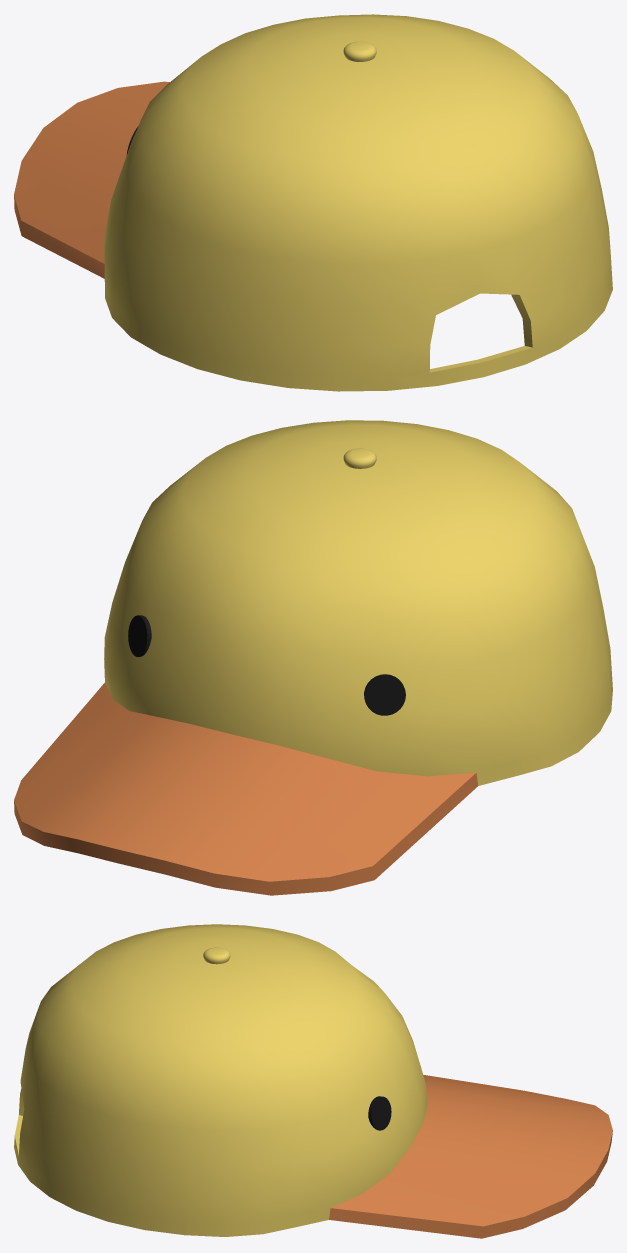
Rendered from Duck hat.fbx.
The picture shows the model from 3 angles, top to bottom: view 1: azimuth 30°, elevation 25°; view 2: azimuth 150°, elevation 25°; view 3: azimuth 270°, elevation 25°; orthographic projection. The views are drawn at different scales.
Visible parts, largest first — view 1: 0.Cap; view 2: 0.Cap; view 3: 0.Cap.
Part boxes in pixels (box(x1,y1,x2,y2)): 0.Cap: box(14, 14, 612, 391); 0.Cap: box(14, 420, 612, 895); 0.Cap: box(14, 924, 612, 1238).
Bounding box in the file's own units: 123 × 69.64 × 174.
